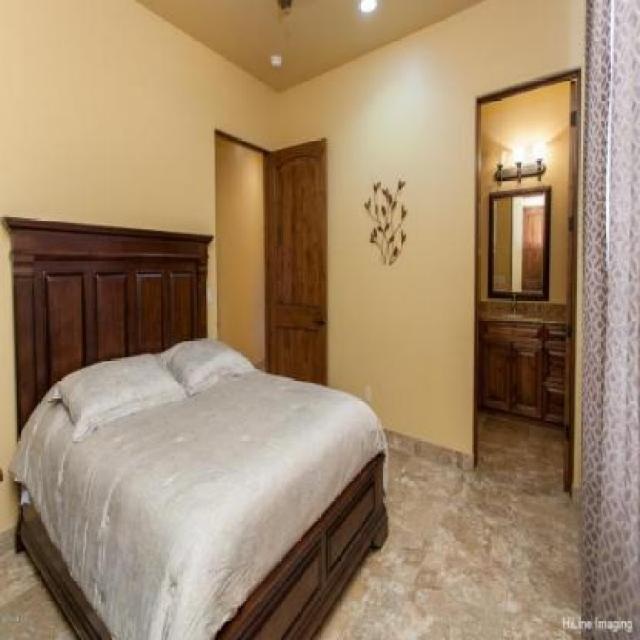Floor: (311, 412, 580, 638), (0, 547, 81, 639)
